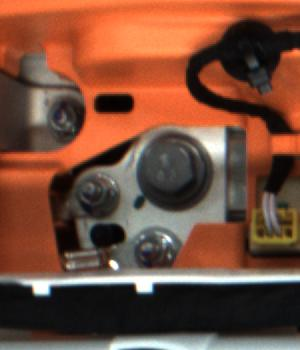nut_b: (126, 128, 225, 216)
screw_s: (132, 233, 178, 269), (73, 170, 110, 212), (47, 97, 74, 139)
